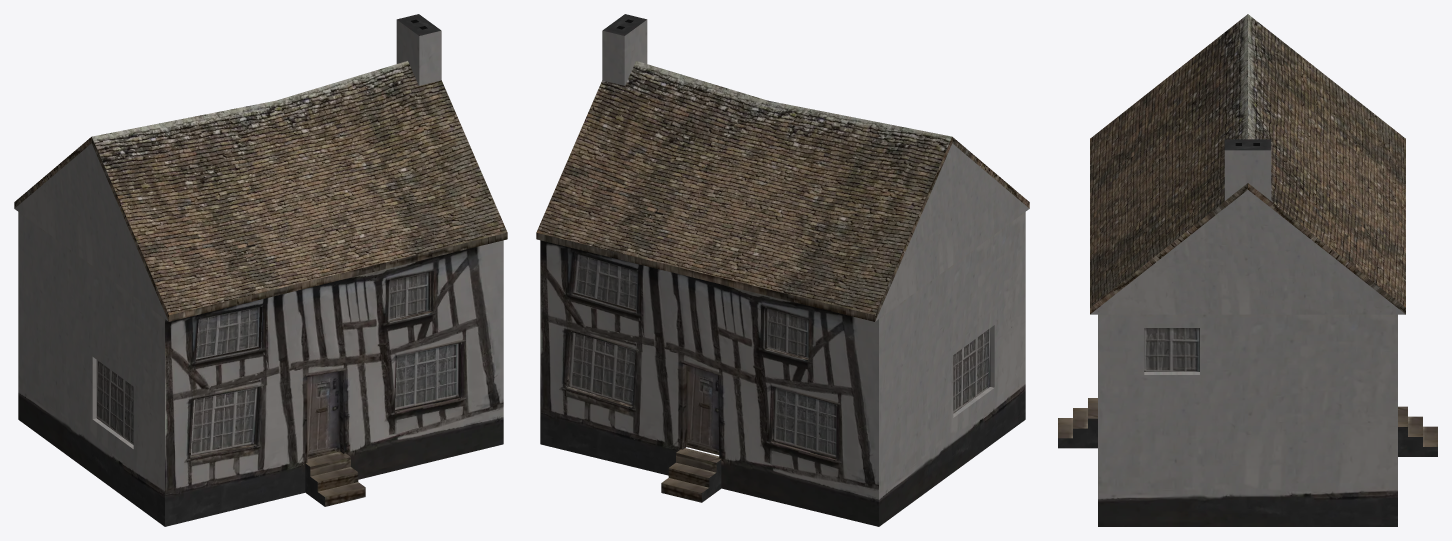
File: lavenham.glb
3 views of the same model, side by side, from view 1: azimuth 30°, elevation 25°; view 2: azimuth 150°, elevation 25°; view 3: azimuth 270°, elevation 25° (orthographic). The views are drawn at different scales.
Size of the model in its own units: 8 by 8.32 by 7.6.
1 material, 1 textured.
